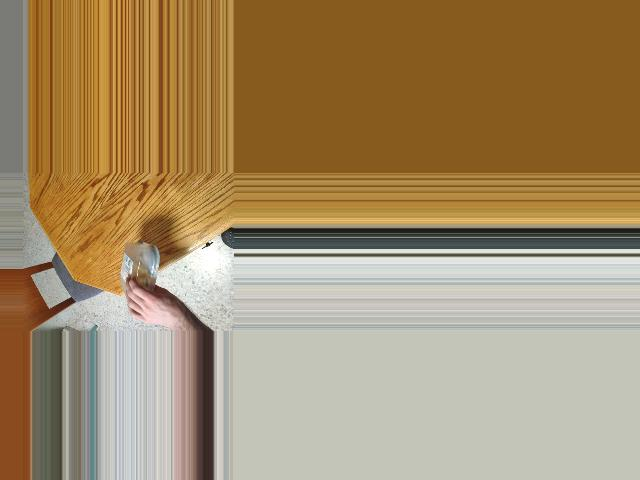cheese: (116, 250, 165, 309)
